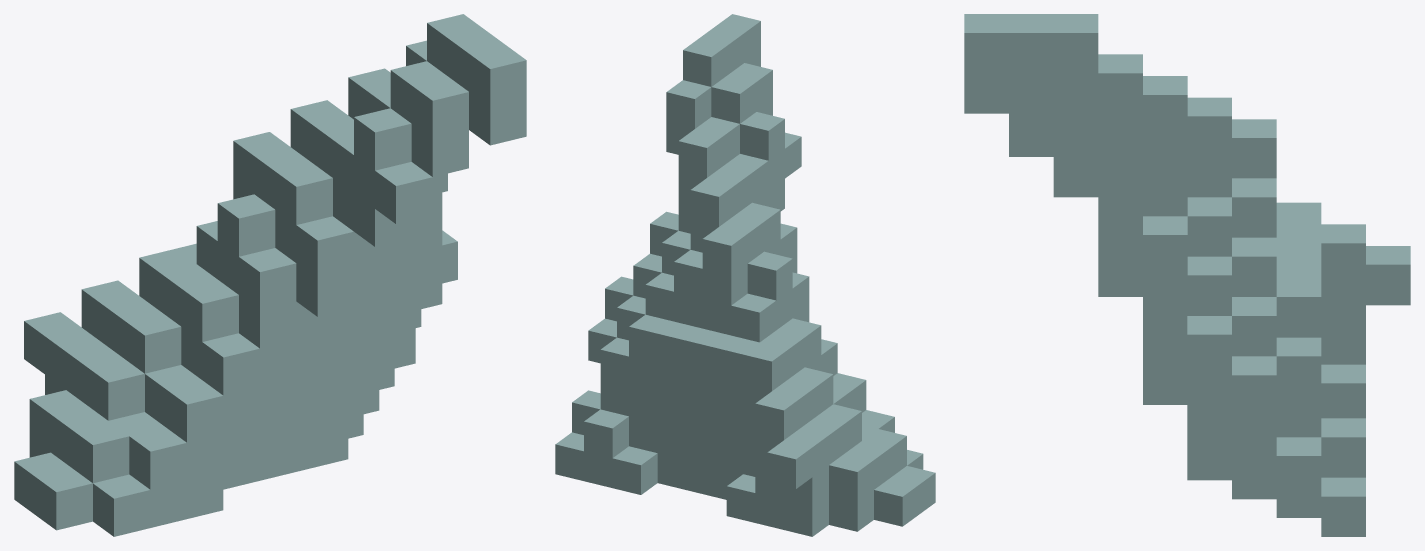
Rendered from Pointyrock2.obj.
The picture shows the model from 3 angles, left to right: view 1: azimuth 30°, elevation 25°; view 2: azimuth 150°, elevation 25°; view 3: azimuth 270°, elevation 25°; orthographic projection. The views are drawn at different scales.
Parts seen in each view (by area): view 1: Pointyrock2; view 2: Pointyrock2; view 3: Pointyrock2.
Boxes of the visible parts, bbox=[...] form: Pointyrock2: bbox=[14, 14, 526, 536]; Pointyrock2: bbox=[555, 14, 935, 536]; Pointyrock2: bbox=[964, 14, 1410, 536].
Bounding box in the file's own units: 11 × 12 × 10.
Materials: 1 (1 with a texture image).
